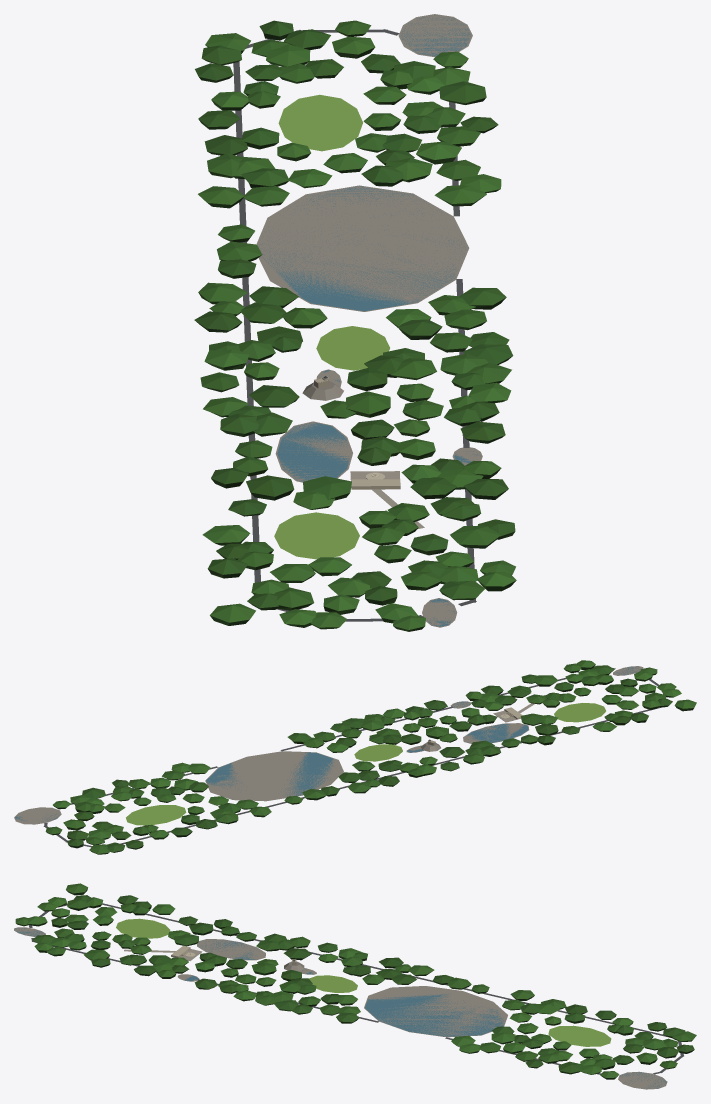
The picture shows the model from 3 angles, top to bottom: view 1: azimuth 30°, elevation 25°; view 2: azimuth 150°, elevation 25°; view 3: azimuth 270°, elevation 25°; orthographic projection. The views are drawn at different scales.
Visible parts, largest first — view 1: central-park-lod1; view 2: central-park-lod1; view 3: central-park-lod1.
Part boxes in pixels (left/top/right/bottom): central-park-lod1: left=194, top=14, right=516, bottom=631; central-park-lod1: left=14, top=660, right=696, bottom=854; central-park-lod1: left=14, top=883, right=696, bottom=1089.
Bounding box in the file's own units: 2634 × 48.44 × 3743.
